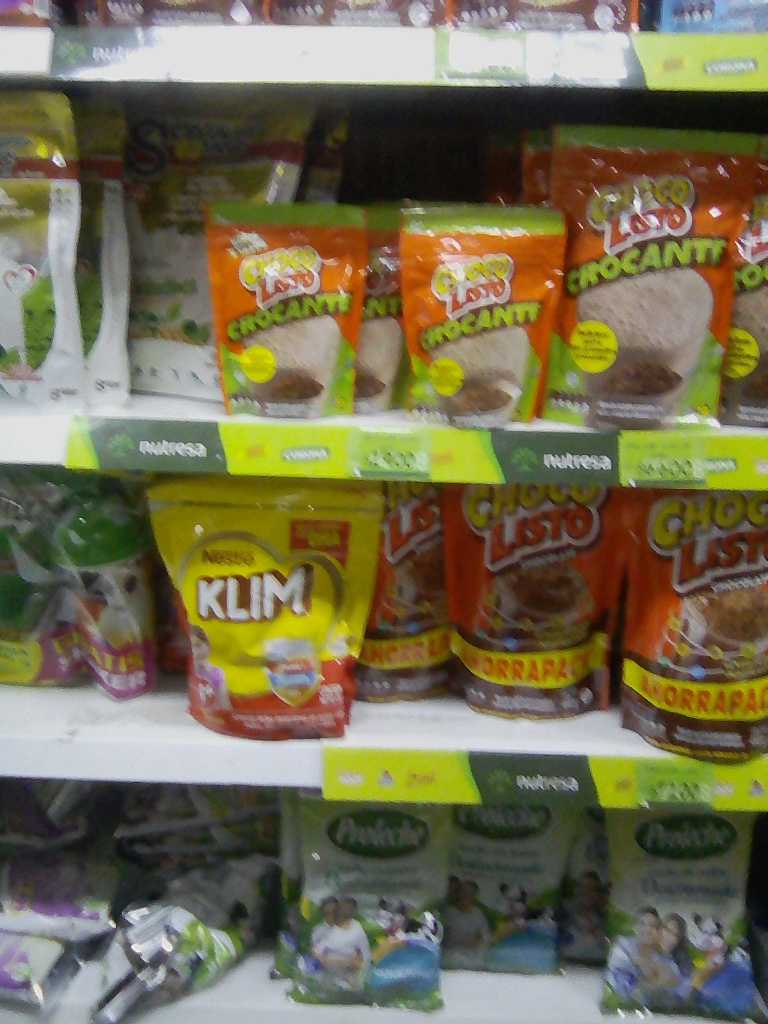COL0170102DYP50000: (545, 119, 756, 432)
COL0170103DYP44000: (442, 481, 613, 715)
